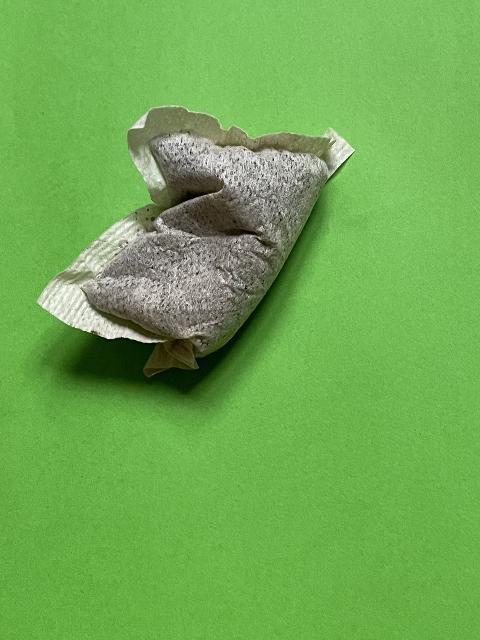teabag: (33, 103, 356, 380)
